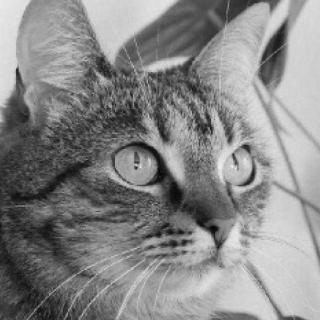cat: (13, 0, 276, 297)
nose: (181, 194, 236, 247)
